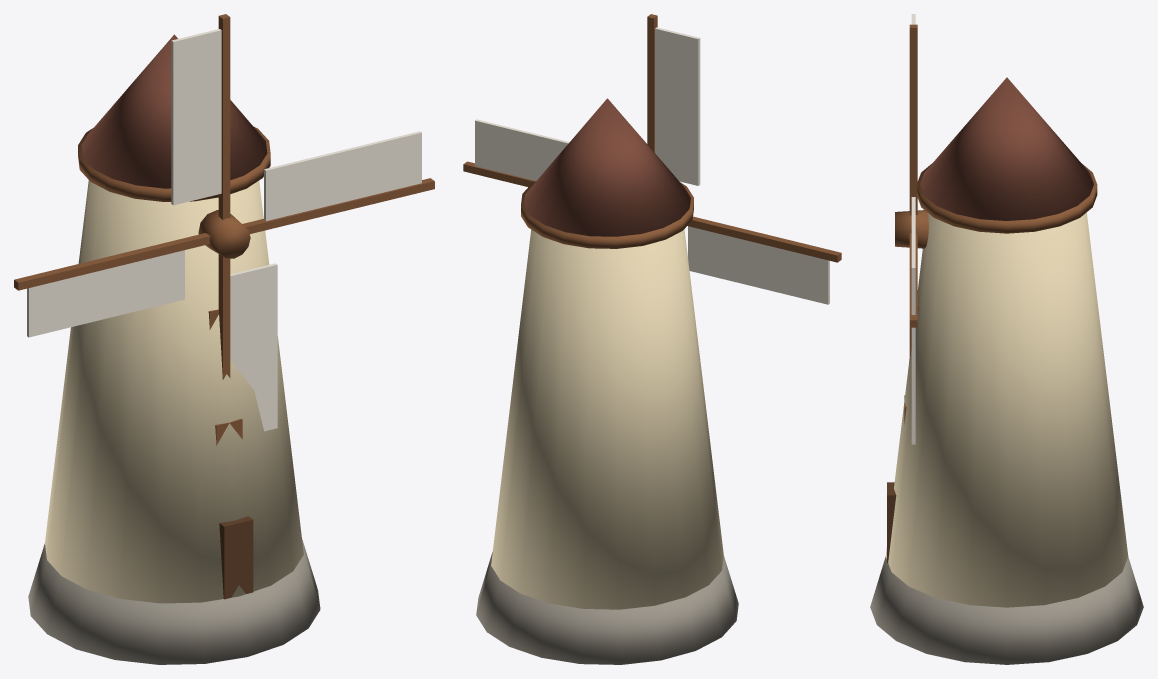
Rendered from xy_landmark_windmill.glb.
3 views of the same model, side by side, from view 1: azimuth 30°, elevation 25°; view 2: azimuth 150°, elevation 25°; view 3: azimuth 270°, elevation 25° (orthographic). The views are drawn at different scales.
Parts seen in each view (by area): view 1: xy_landmark_windmill, Blades; view 2: xy_landmark_windmill, Blades; view 3: xy_landmark_windmill, Blades.
Part boxes in pixels (x1,y1,x2,y2): xy_landmark_windmill: (28, 34, 320, 664); Blades: (14, 14, 434, 431); xy_landmark_windmill: (476, 98, 738, 664); Blades: (463, 14, 841, 304); xy_landmark_windmill: (870, 77, 1143, 664); Blades: (895, 14, 928, 444).
Size of the model in its own units: 7.2 by 10.3 by 4.4.
